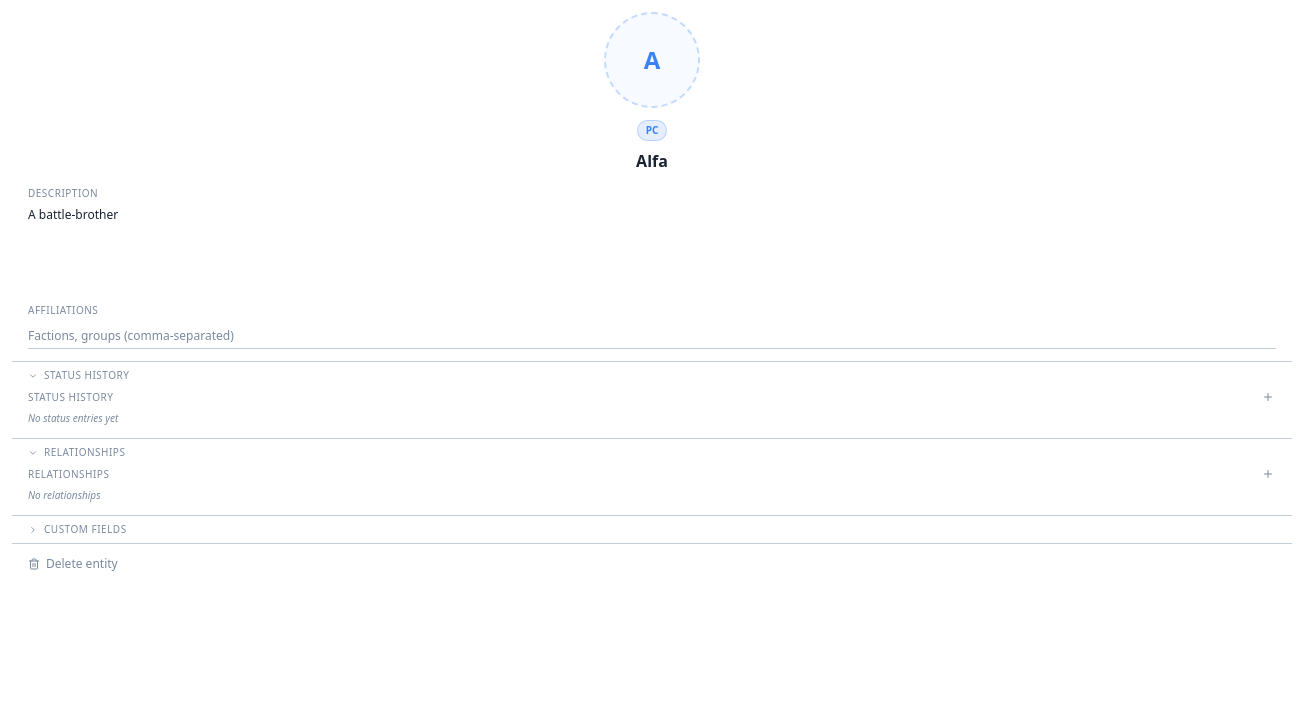
it: EntityProfile › toggles custom fields section on header click
Expected: the text "No custom fields" is not shown
Note: Click to expand custom section
Step 1. Click the button "Custom Fields" → (85, 529), box x1=12 y1=515 x2=1292 y2=543
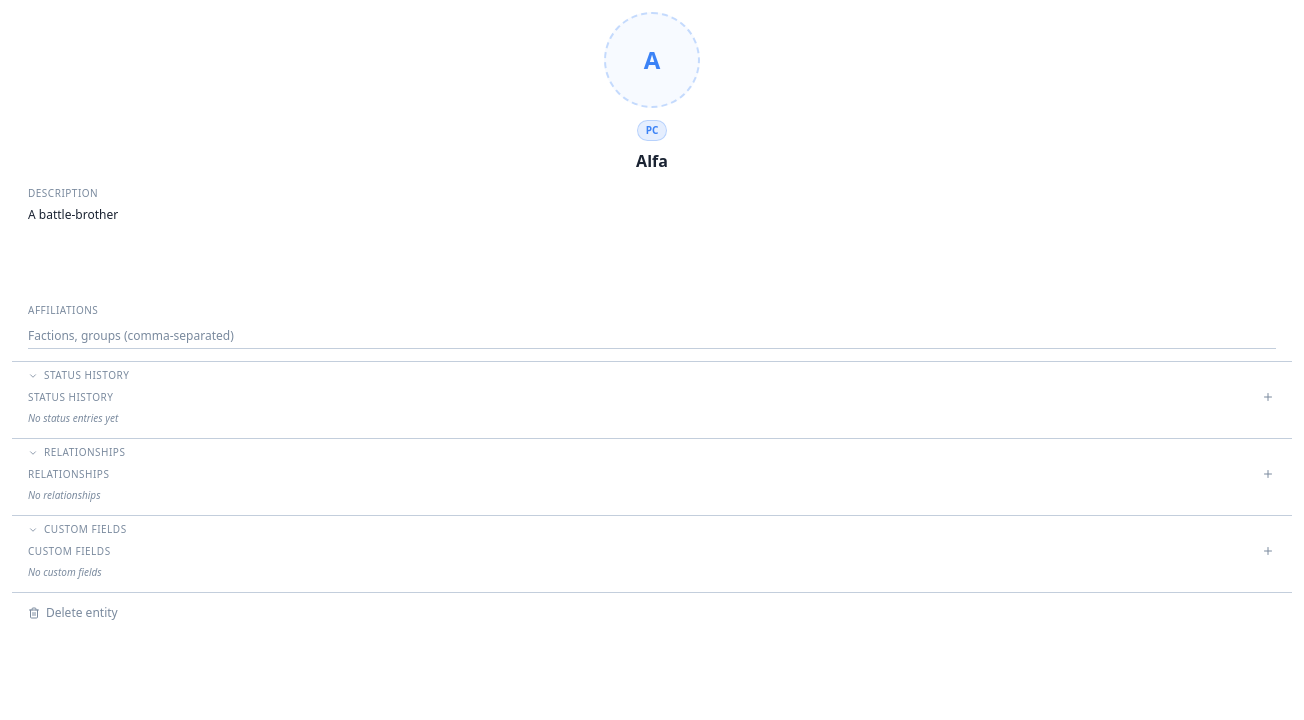
Result: the text "No custom fields" is shown at x1=28 y1=565 x2=102 y2=579
